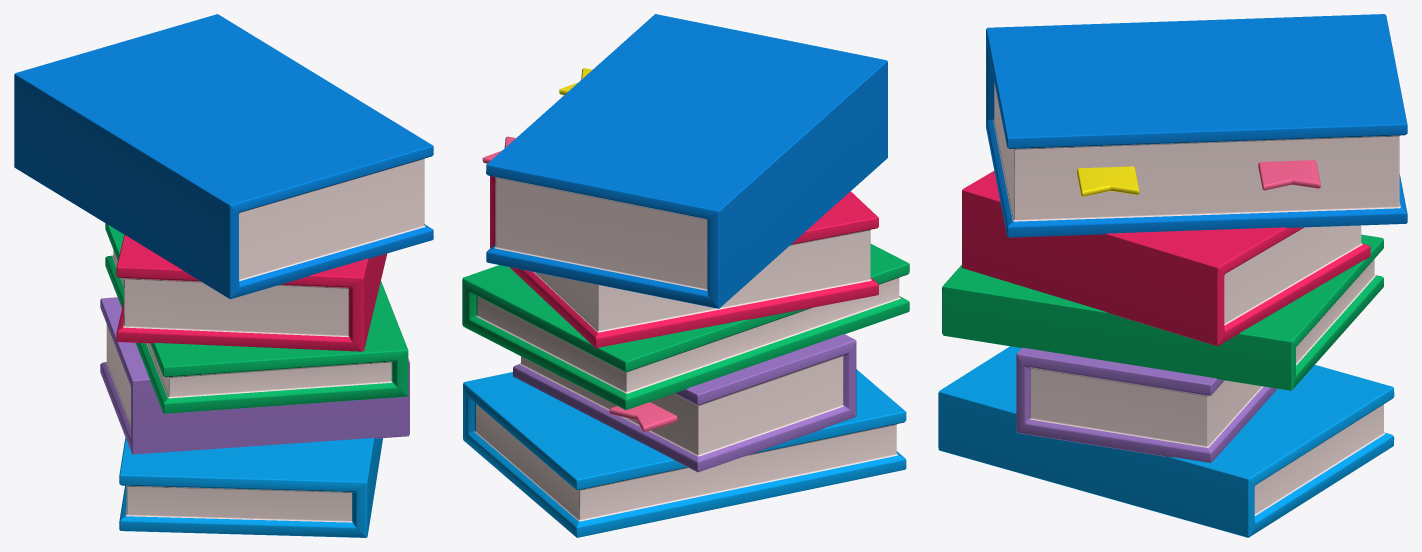
The model's file is Public_2_Books_3.glb.
The picture shows the model from 3 angles, left to right: view 1: azimuth 30°, elevation 25°; view 2: azimuth 150°, elevation 25°; view 3: azimuth 270°, elevation 25°; orthographic projection. The views are drawn at different scales.
Parts seen in each view (by area): view 1: Public_2_Books_3; view 2: Public_2_Books_3; view 3: Public_2_Books_3.
Part boxes in pixels (x1,y1,x2,y2): Public_2_Books_3: [14, 14, 433, 537]; Public_2_Books_3: [462, 14, 909, 537]; Public_2_Books_3: [938, 14, 1407, 537].
Size of the model in its own units: 1.81 by 1.71 by 1.99.
Materials: 1 (1 with a texture image).
